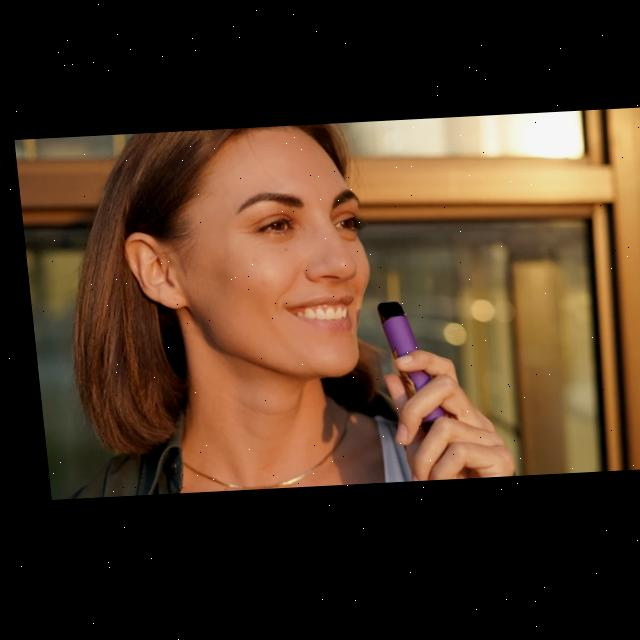vape: (367, 302, 439, 434)
